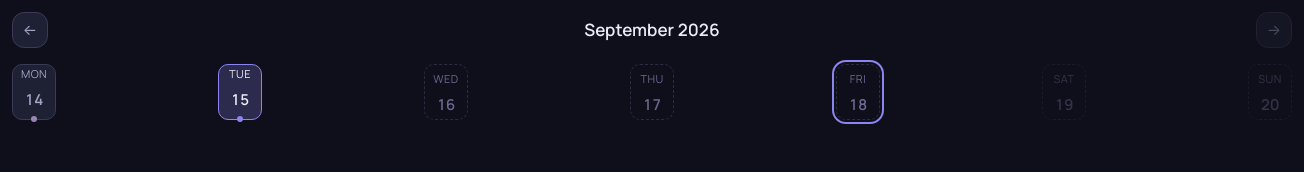
Test: header spells out both months when the visible week crosses a month boundary
Click the button named "Previous week".
click(30, 30)  # box [12, 12, 48, 48]
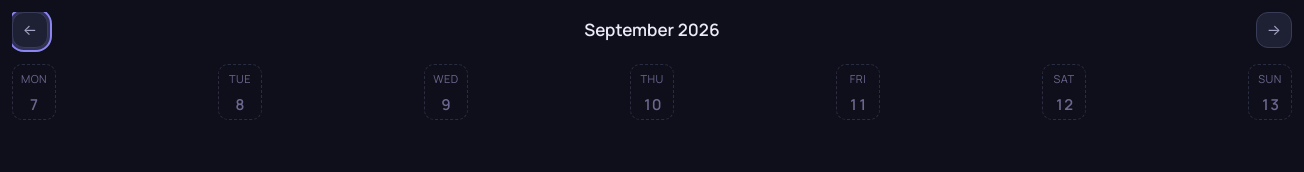
Click the button named "Previous week".
click(30, 30)  # box [12, 12, 48, 48]
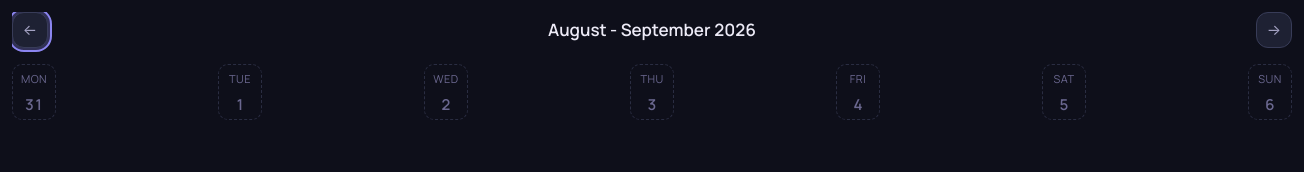
Result: the heading "August - September 2026" is shown at [548, 18, 756, 42]
